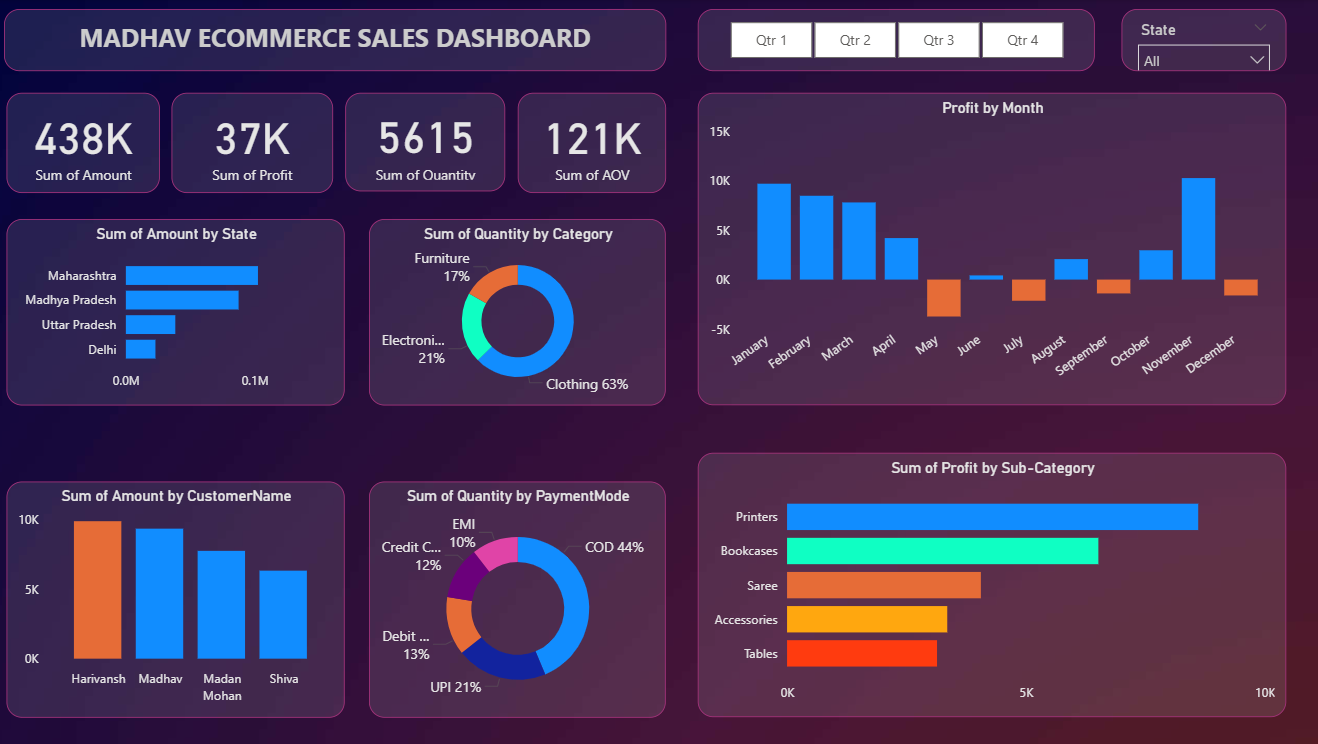

The page's visual inventory and layout, read from the dashboard file:
{"tool":"powerbi","page":{"name":"Page 1","canvas":[1280,720],"ordinal":0},"visuals":[{"type":"textbox","box":[9.6,9.6,639.5,60.4],"z":0},{"type":"columnChart","title":"Profit by Month","fields":{"Y":["Sum(Details.Profit)"],"Category":["Orders.Order Date.Variation.Date Hierarchy.Month"]},"box":[679.2,90.6,568.1,301.9],"z":1000},{"type":"barChart","fields":{"Category":["Details.Sub-Category"],"Y":["Sum(Details.Profit)"]},"box":[679.2,437.7,568.1,255.2],"z":2000},{"type":"donutChart","fields":{"Category":["Details.Category"],"Y":["Sum(Details.Quantity)"]},"box":[362.3,212.7,286.8,179.8],"z":3000},{"type":"donutChart","fields":{"Category":["Details.PaymentMode"],"Y":["Sum(Details.Quantity)"]},"box":[362.3,465.2,286.8,227.8],"z":4000},{"type":"card","fields":{"Values":["Sum(Details.Amount)"]},"box":[12.1,90.5,148.4,96.5],"z":5000},{"type":"card","fields":{"Values":["Sum(Details.Profit)"]},"box":[171.3,90.5,155.6,96.5],"z":6000},{"type":"card","fields":{"Values":["Sum(Details.Quantity)"]},"box":[339,90.5,154.4,95.3],"z":7000},{"type":"card","fields":{"Values":["Sum(Details.AOV)"]},"box":[505.5,90.5,143.6,96.5],"z":8000},{"type":"barChart","fields":{"Category":["Orders.State"],"Y":["Sum(Details.Amount)"]},"box":[12.3,212.7,326.6,179.8],"z":9000},{"type":"columnChart","fields":{"Category":["Orders.CustomerName"],"Y":["Sum(Details.Amount)"]},"box":[12.3,465.2,326.6,227.8],"z":10000},{"type":"slicer","fields":{"Values":["Orders.Order Date.Variation.Date Hierarchy.Quarter"]},"box":[679.2,9.6,382.8,60.4],"z":11000},{"type":"slicer","fields":{"Values":["Orders.State"]},"box":[1088.2,9.6,159.2,60.4],"z":11001}]}

Visuals, with their boxes in screenshot pixels (x1, y1, x2, y2), scaled from the page's 1280x720 canvas onto the 1318x744 screenshot:
textbox: locate(10, 10, 668, 72)
"Profit by Month" columnChart: locate(699, 94, 1284, 406)
barChart - Details.Sub-Category x Sum(Details.Profit): locate(699, 452, 1284, 716)
donutChart - Details.Category x Sum(Details.Quantity): locate(373, 220, 668, 406)
donutChart - Details.PaymentMode x Sum(Details.Quantity): locate(373, 481, 668, 716)
card - Sum(Details.Amount): locate(12, 94, 165, 193)
card - Sum(Details.Profit): locate(176, 94, 337, 193)
card - Sum(Details.Quantity): locate(349, 94, 508, 192)
card - Sum(Details.AOV): locate(521, 94, 668, 193)
barChart - Orders.State x Sum(Details.Amount): locate(13, 220, 349, 406)
columnChart - Orders.CustomerName x Sum(Details.Amount): locate(13, 481, 349, 716)
slicer - Orders.Order Date.Variation.Date Hierarchy.Quarter: locate(699, 10, 1094, 72)
slicer - Orders.State: locate(1121, 10, 1284, 72)
